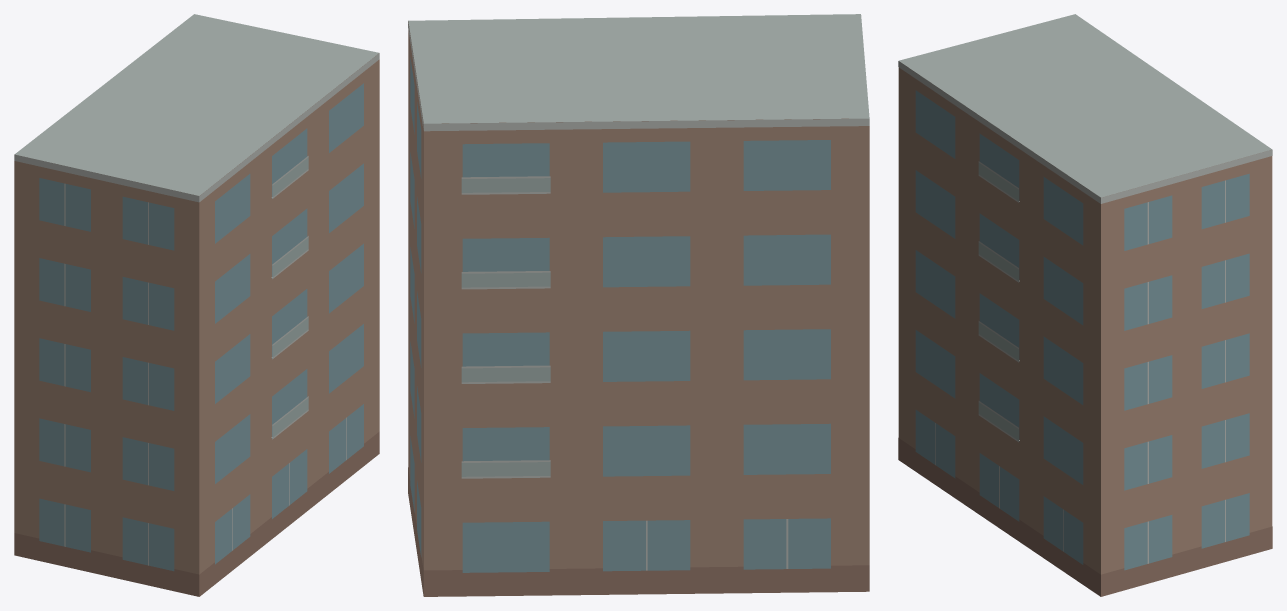
Rendered from survey-upis-32880628.glb.
The picture shows the model from 3 angles, left to right: view 1: azimuth 30°, elevation 25°; view 2: azimuth 150°, elevation 25°; view 3: azimuth 270°, elevation 25°; orthographic projection. The views are drawn at different scales.
Visible parts, largest first — view 1: survey-upis-32880628.tmp; view 2: survey-upis-32880628.tmp; view 3: survey-upis-32880628.tmp.
Boxes of the visible parts, left/top/right/bottom form: survey-upis-32880628.tmp: left=14, top=14, right=379, bottom=596; survey-upis-32880628.tmp: left=408, top=14, right=869, bottom=596; survey-upis-32880628.tmp: left=898, top=14, right=1272, bottom=596.
Bounding box in the file's own units: 15.06 × 15.25 × 12.96.
